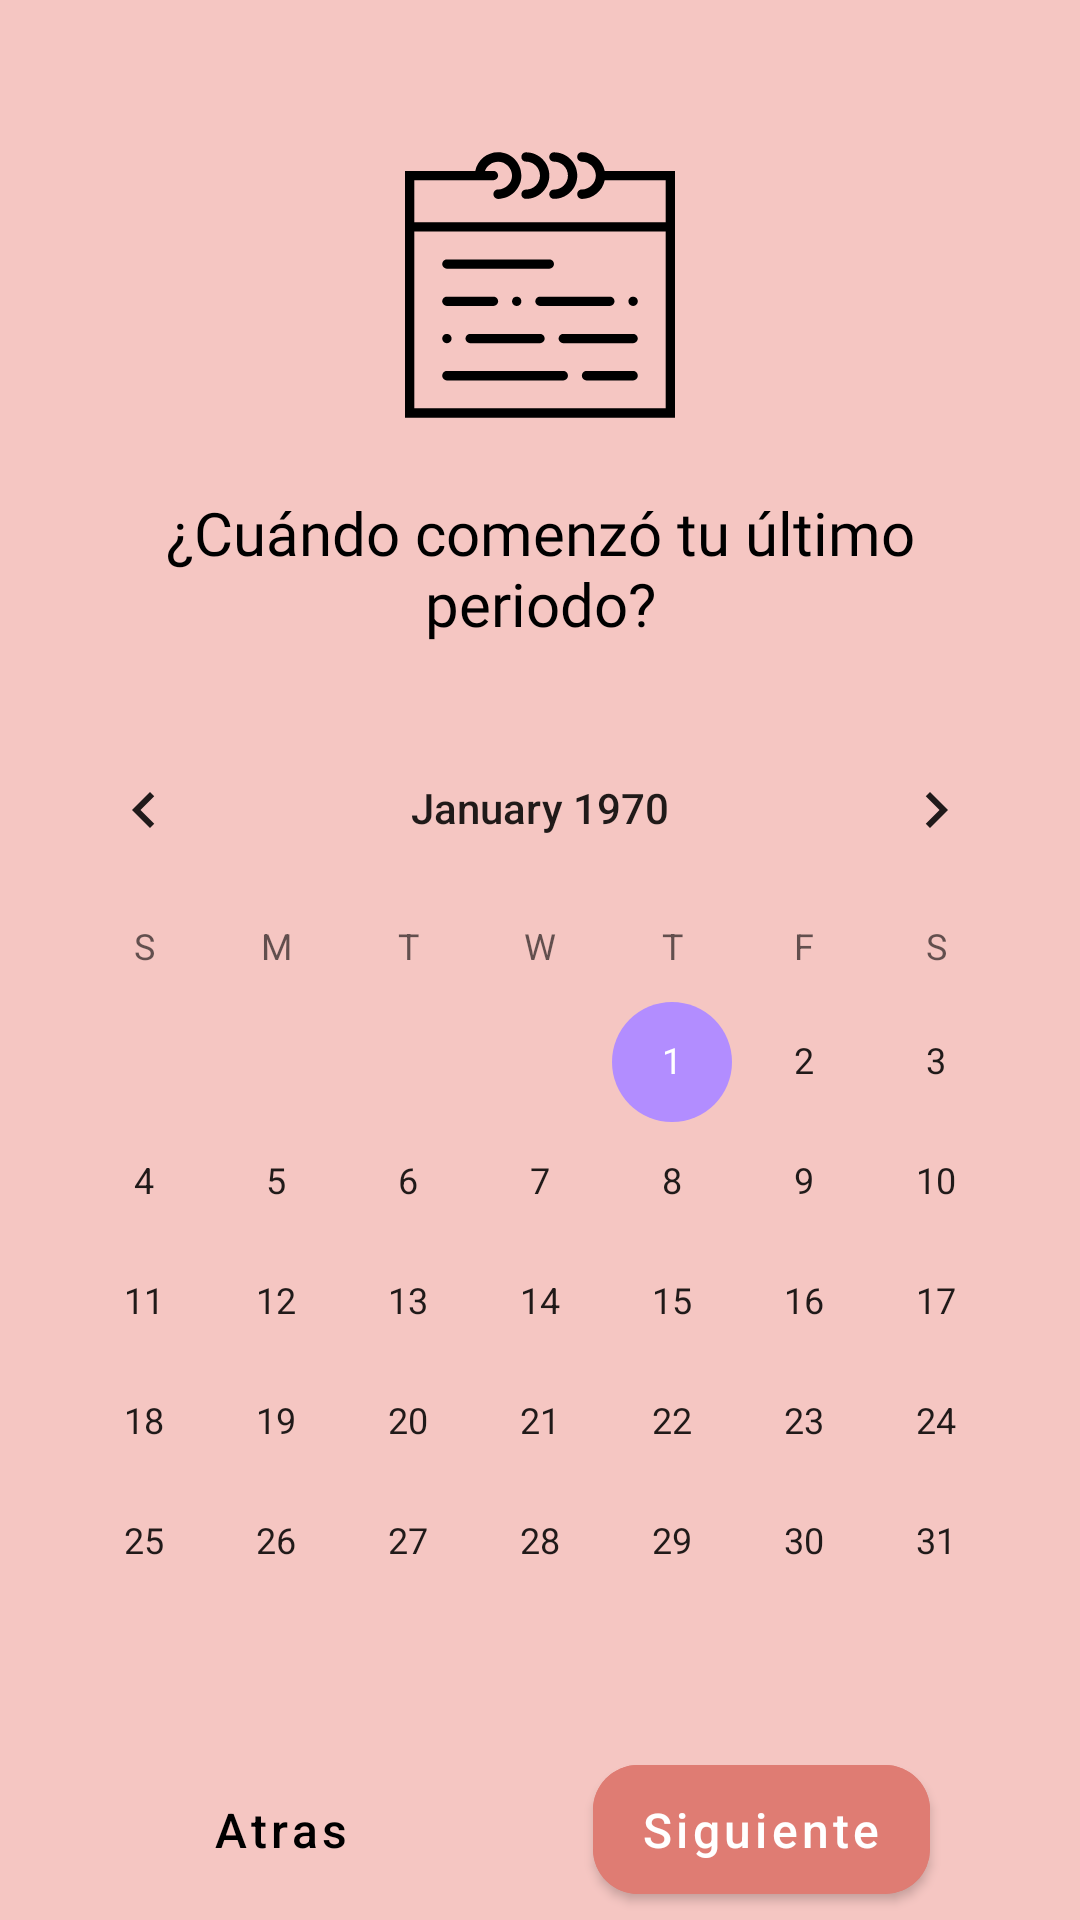

Icon bounding boxes for this 1080x1920 phone screenshot, format (x1, y1, x2, y2):
calendar basic: (405, 152, 675, 418)
